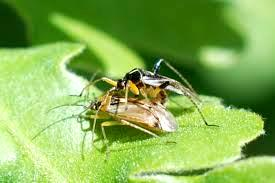Helopeltis-insect: (81, 97, 179, 135), (111, 58, 203, 96)
